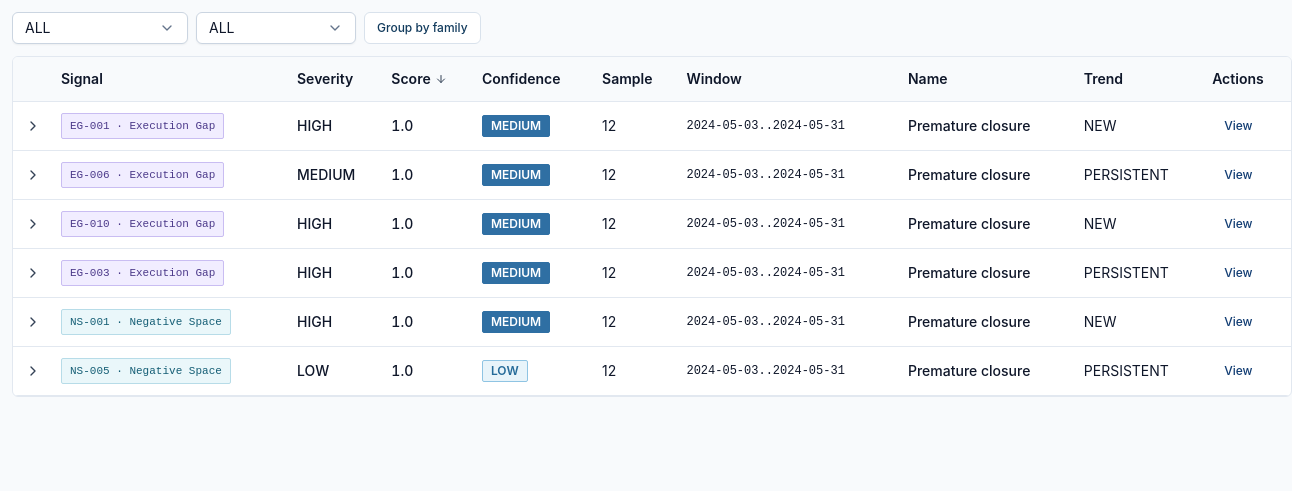
Scenario: FindingsTable › expanding a row shows the rationale preview
Click the button named "rationale for EG-001". click: click(33, 126)
box: [21,114,45,138]
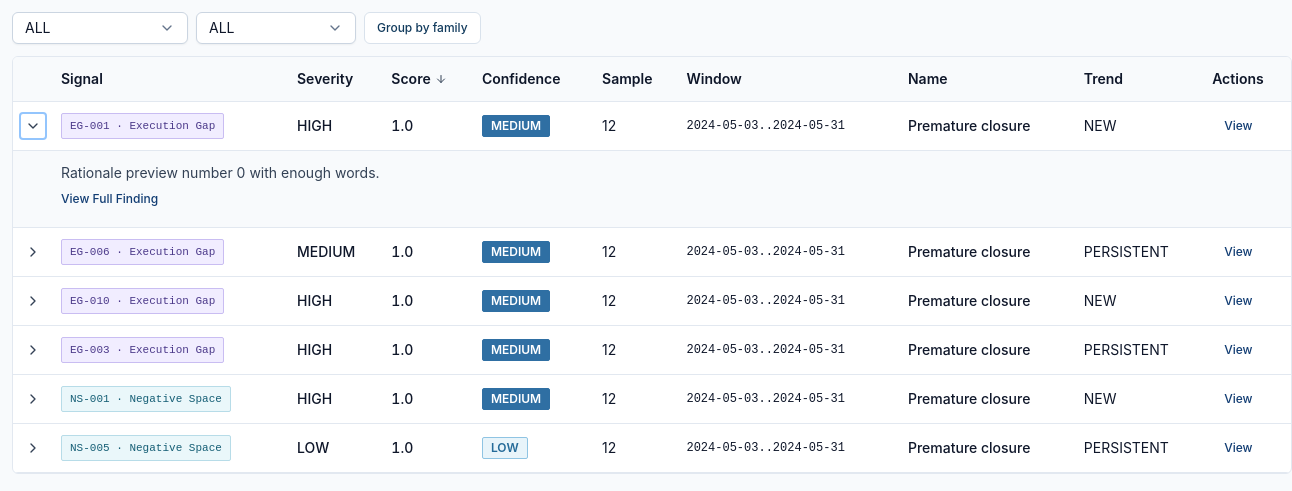
Result: the text "Rationale preview number 0 with enough words." is shown at [61,164,380,181]
Result: the button "View Full Finding" is shown at [61,183,158,215]
